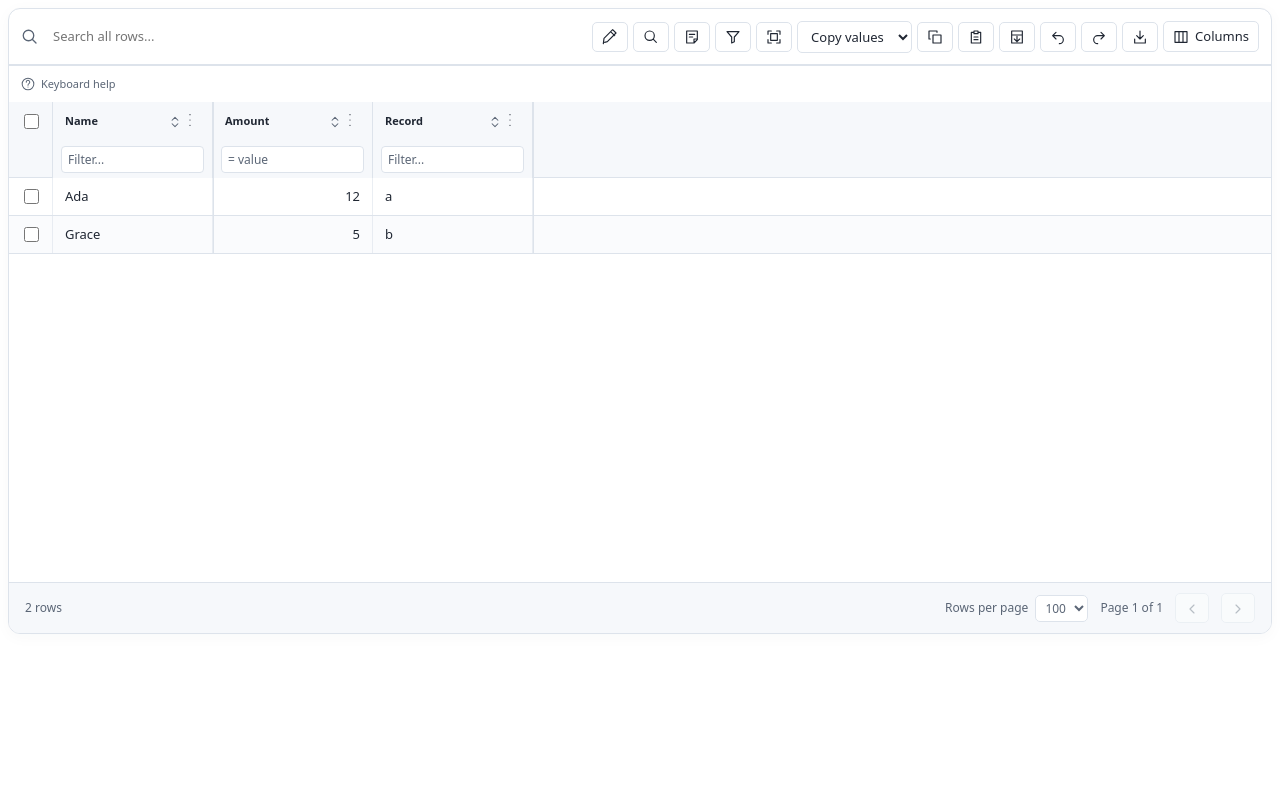
DataGrid contextual commands › opens the real note dialog at the requested cell and keeps its plain-text contract
Right-click the cell "5".
right_click(293, 234)  # box x1=213 y1=216 x2=373 y2=253
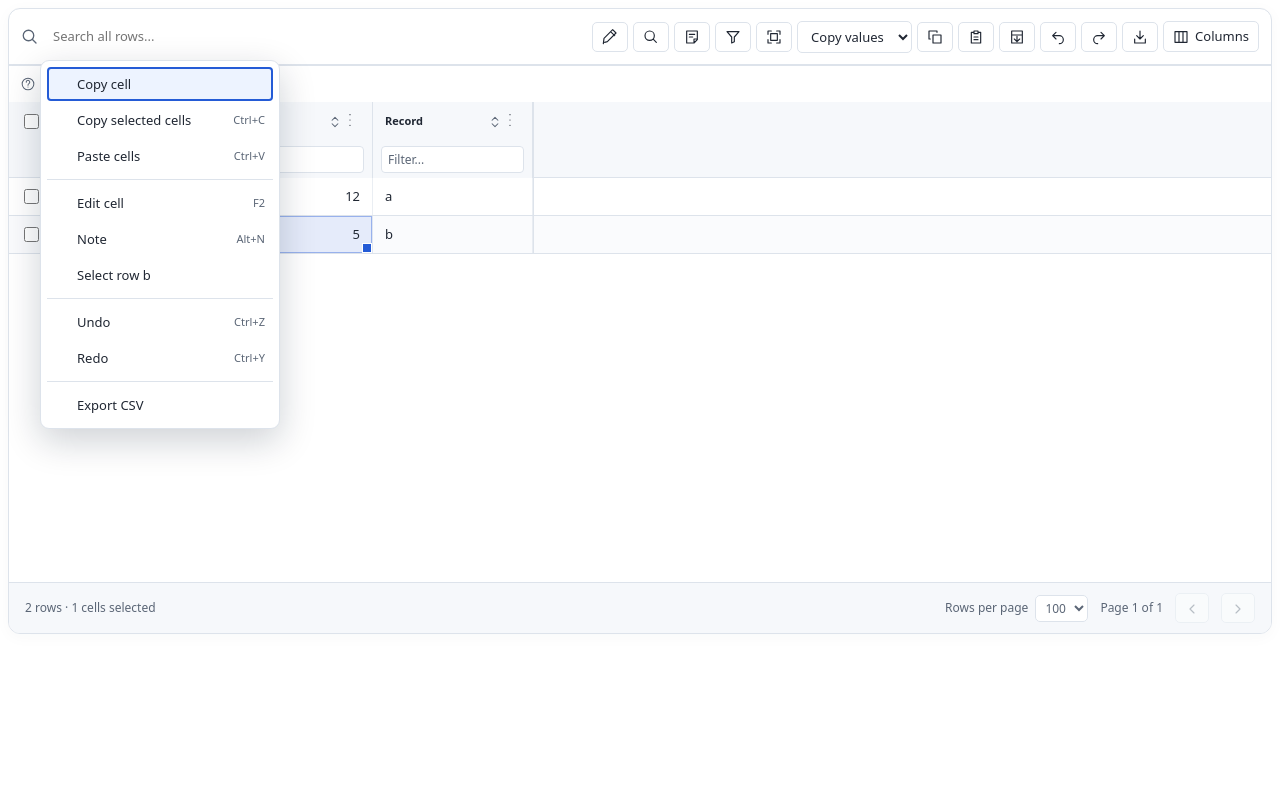
Click the menu item "Note Alt+N".
click(160, 239)  # box x1=47 y1=222 x2=273 y2=256
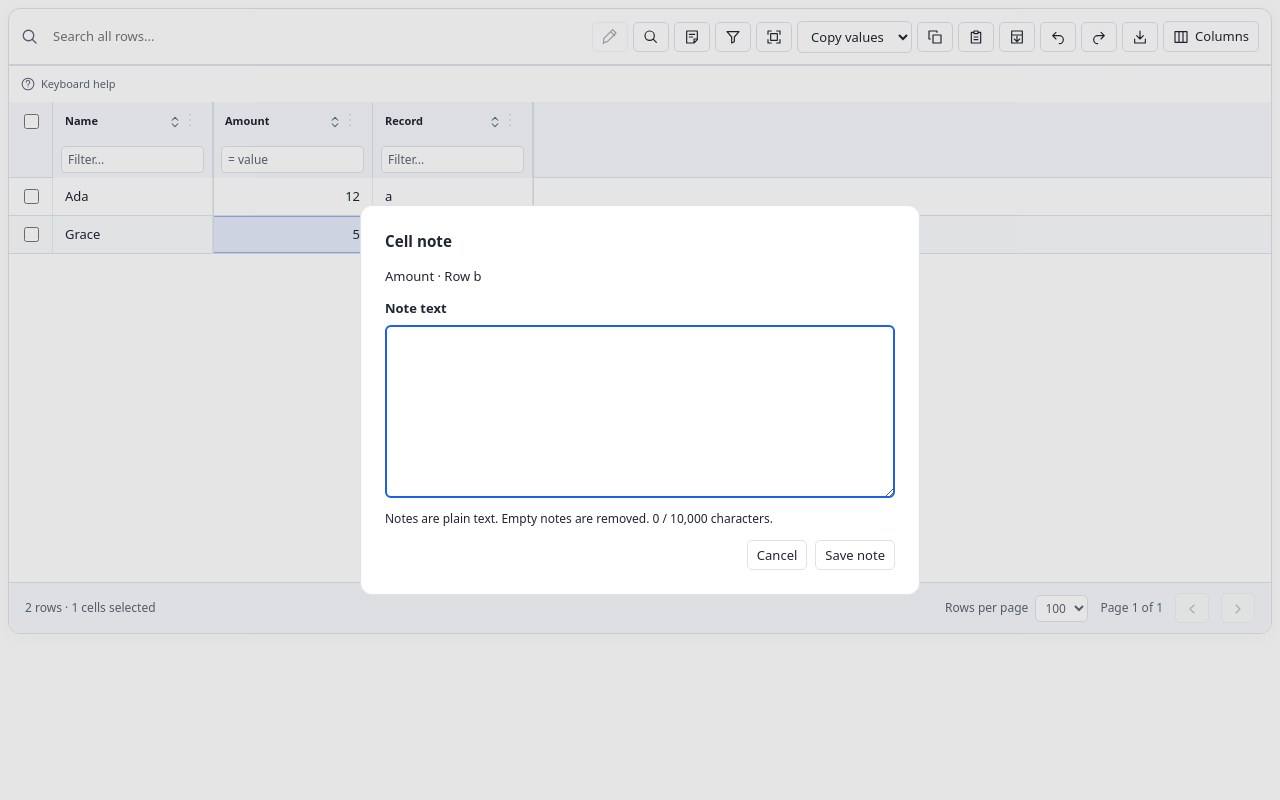
expect the dialog is shown: met, box x1=360 y1=204 x2=920 y2=595
expect the dialog shows "Amount": met, box x1=385 y1=267 x2=482 y2=285
expect the dialog shows "b": met, box x1=385 y1=267 x2=482 y2=285
